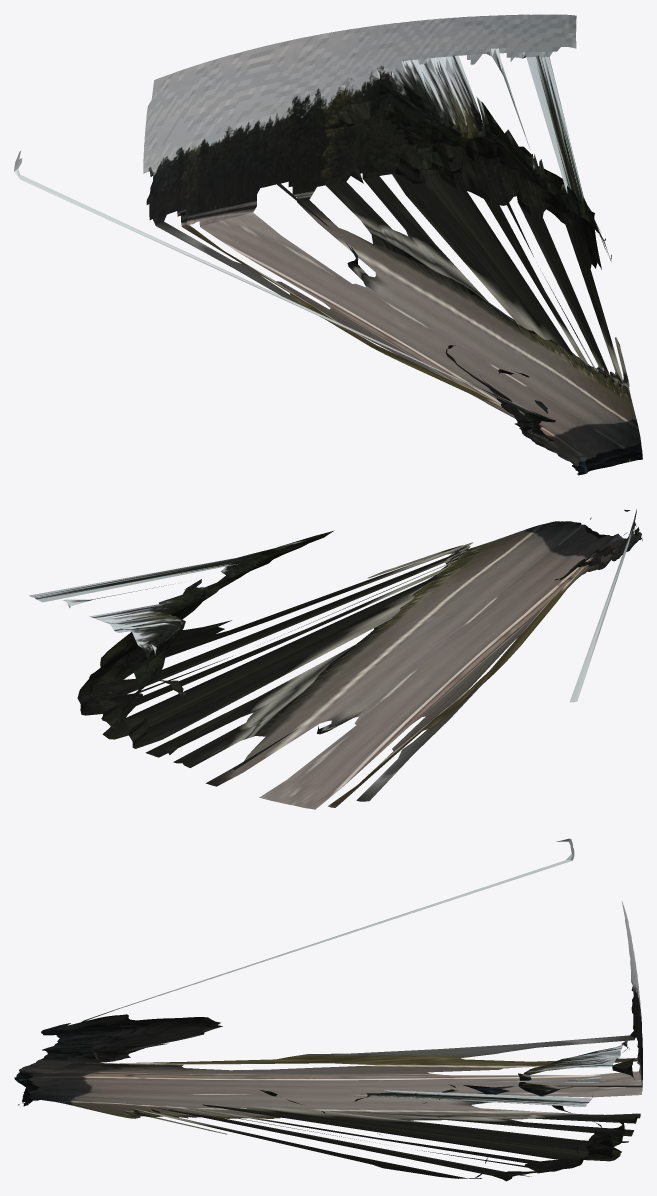
3 views of the same model, one above another, from view 1: azimuth 30°, elevation 25°; view 2: azimuth 150°, elevation 25°; view 3: azimuth 270°, elevation 25° (orthographic). The views are drawn at different scales.
Visible parts, largest first — view 1: defaultobject; view 2: defaultobject; view 3: defaultobject.
Boxes of the visible parts, x1=… form: defaultobject: x1=14, y1=14, x2=642, y2=475; defaultobject: x1=29, y1=509, x2=642, y2=809; defaultobject: x1=14, y1=838, x2=642, y2=1181.
Size of the model in its own units: 40.7 by 11.95 by 44.75.
Materials: 1 (1 with a texture image).
